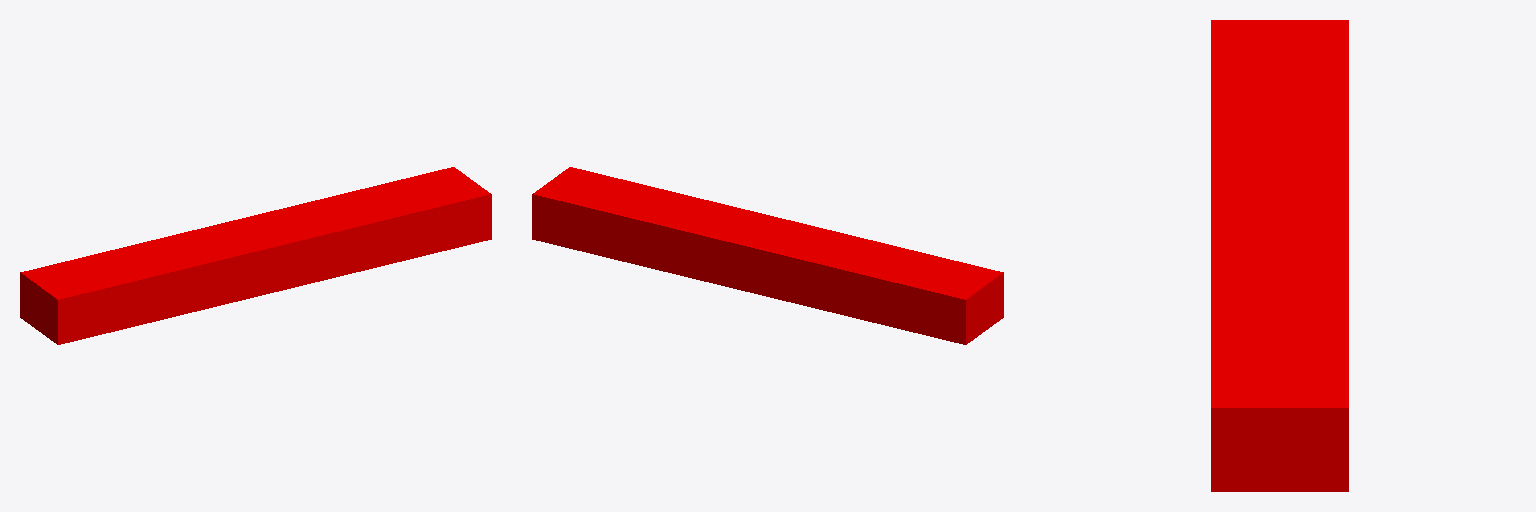
robot.urdf — wall6:
<?xml version="1.0"?>
<robot name="wall6">
	<link name="base">
	<inertial>
        	 <origin xyz="0 0 0" rpy="0 0 0"/>
        	 <mass value="5"/>
        	 <inertia ixx="0.000683333"  ixy="0"  ixz="0" iyy="0.000683333" iyz="0" izz="0.000683333" />
       </inertial>
		<visual>
			<origin xyz="0 0 0" rpy="0 0 0" />
			<geometry>
				<box size="0.2 0.03 0.02" />
			</geometry>
			<material>
				<color rgba="1 0 0 1" />
			</material>
		</visual>
		<collision>
            <origin xyz="0 0 0" rpy="0 0 0" />
            <geometry>
				<box size="0.2 0.03 0.03" />
            </geometry>
        </collision>
	</link>
</robot>

--- Facts derived from the render (not from the file) ---
Views: 3 orthographic renders of the robot side by side, from view 1: azimuth 30°, elevation 25°; view 2: azimuth 150°, elevation 25°; view 3: azimuth 270°, elevation 25°.
Model wall6 with 1 links and 0 joints (none), rooted at base, posed all joints at 0.
Visible links, largest first — view 1: base; view 2: base; view 3: base.
Link boxes in pixels (<box>): base: <box>20,167,491,344</box>; base: <box>532,167,1003,344</box>; base: <box>1211,20,1348,491</box>.
Bounding box of the posed robot: 0.2 × 0.03 × 0.02 m (x, y, z).
Geometry: primitives only (box / cylinder / sphere), no mesh files.
